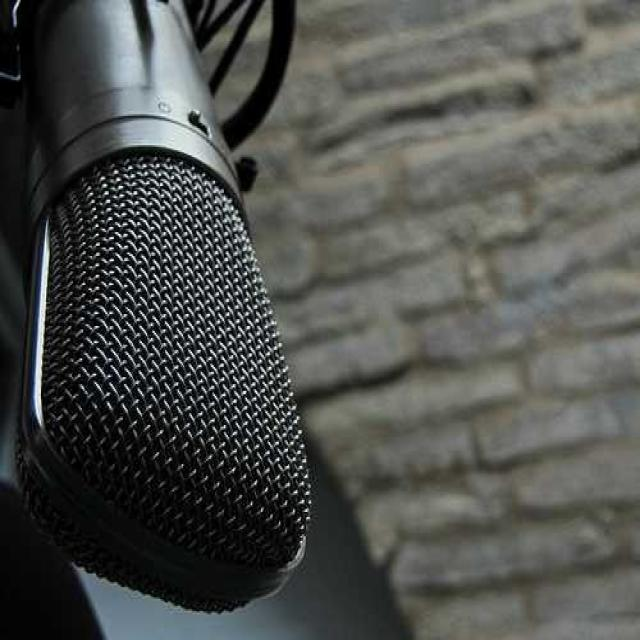microphone: (8, 10, 310, 600)
